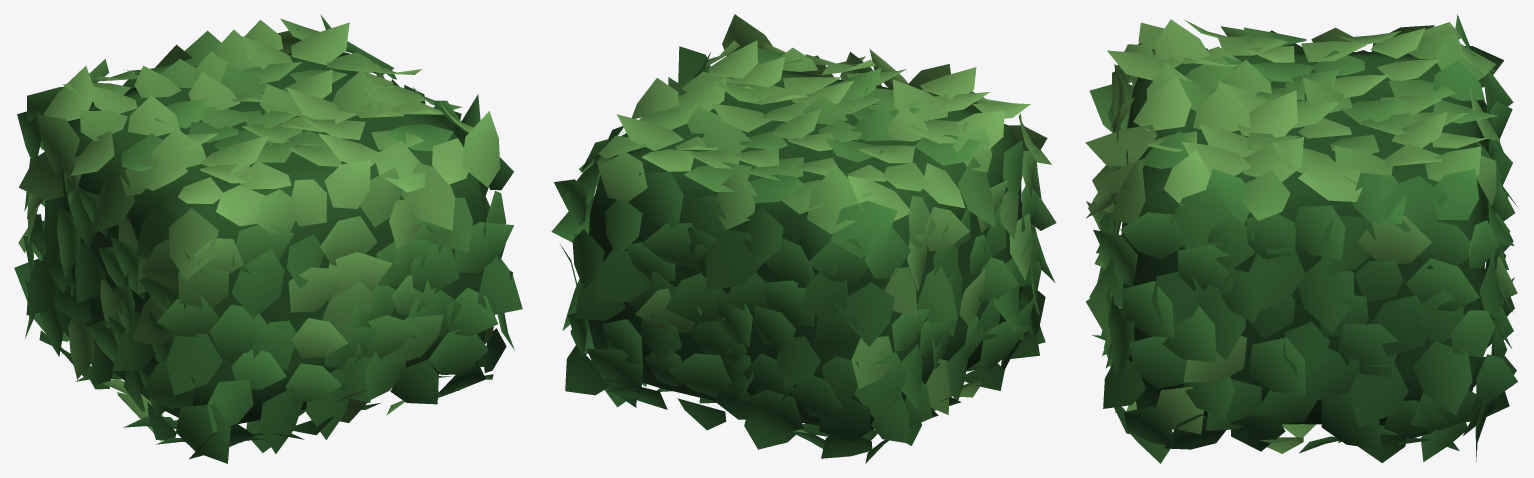
The model's file is furn_dp_hedge.glb.
3 views of the same model, side by side, from view 1: azimuth 30°, elevation 25°; view 2: azimuth 150°, elevation 25°; view 3: azimuth 270°, elevation 25° (orthographic). The views are drawn at different scales.
Parts seen in each view (by area): view 1: furn_dp_hedge_main; view 2: furn_dp_hedge_main; view 3: furn_dp_hedge_main.
Boxes of the visible parts, box(x1,y1,x2,y2) form: furn_dp_hedge_main: box(14, 14, 522, 463); furn_dp_hedge_main: box(551, 14, 1056, 463); furn_dp_hedge_main: box(1085, 14, 1518, 463).
Size of the model in its own units: 0.9542 by 0.7632 by 0.9203.
